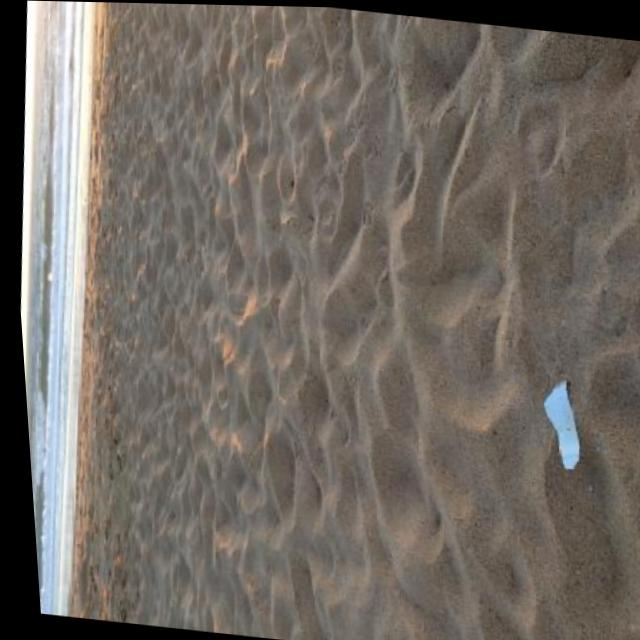paper: (535, 378, 593, 471)
